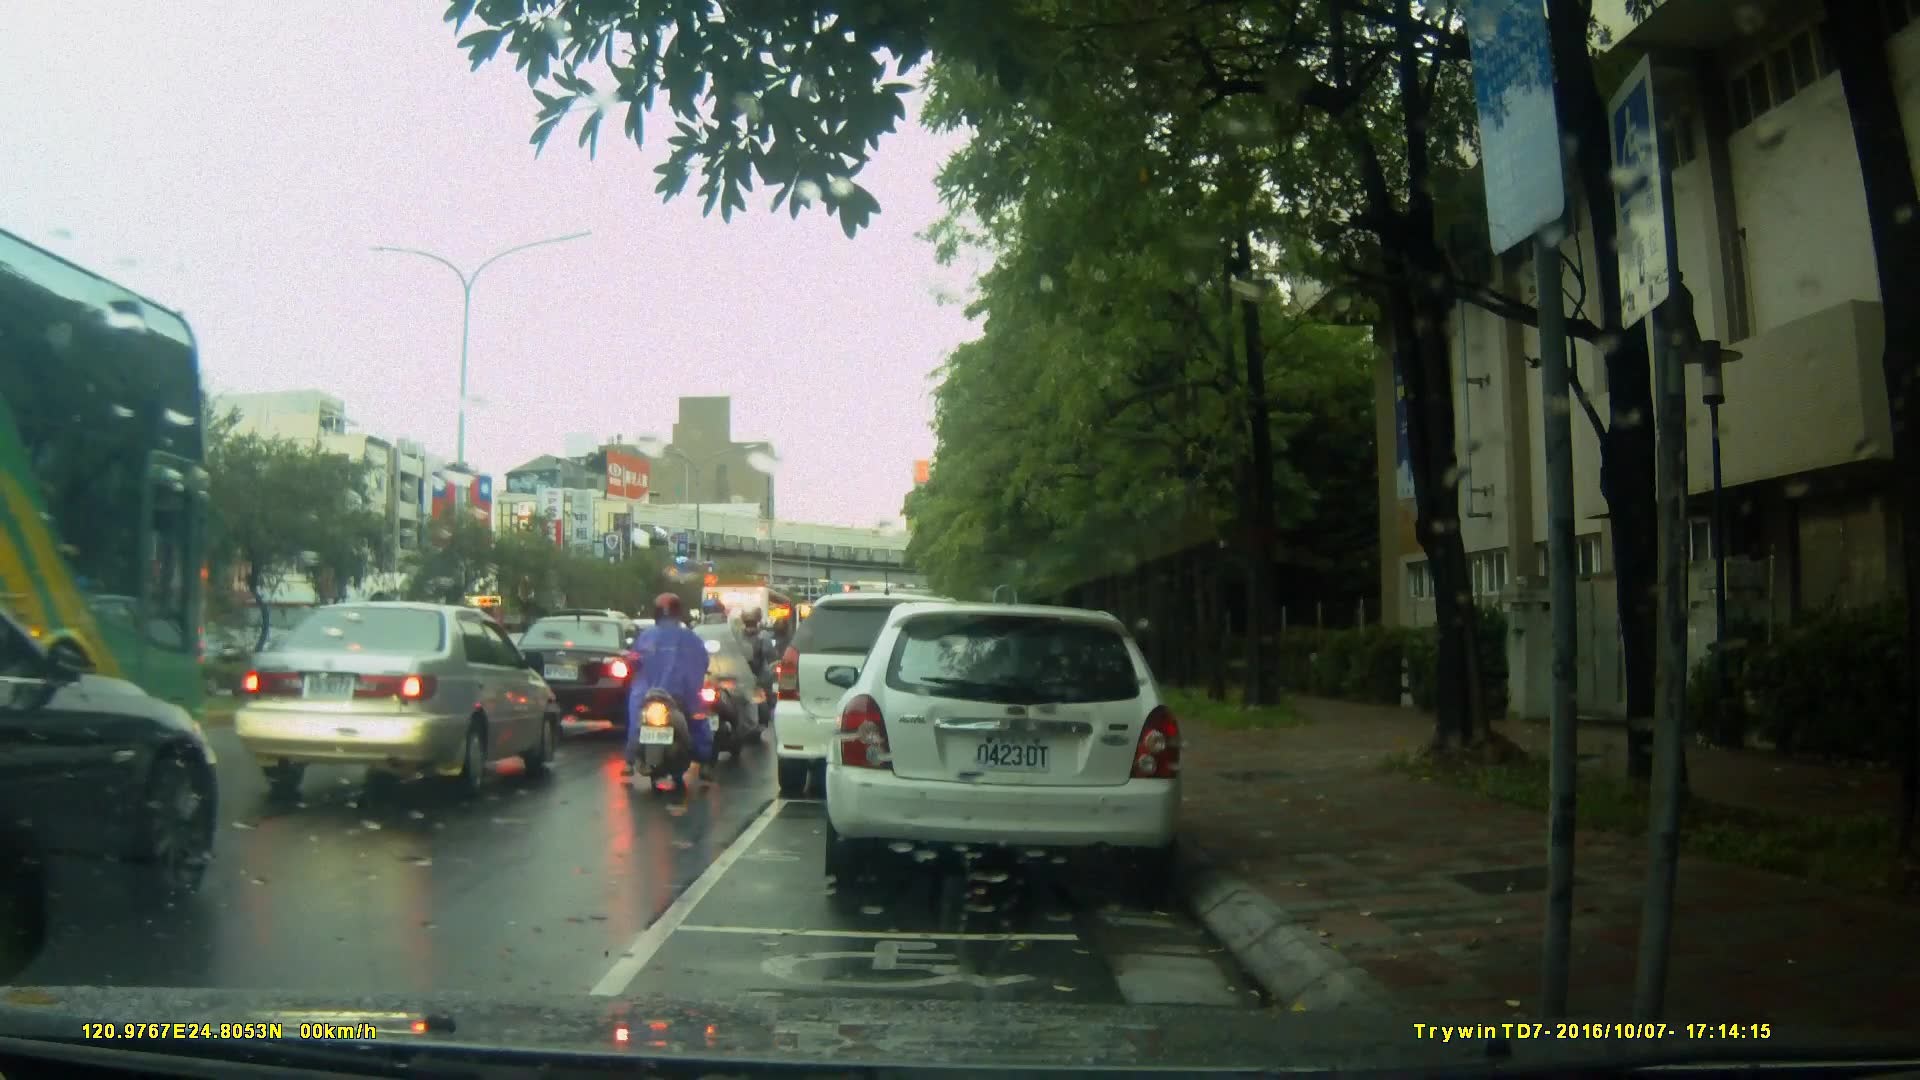rider: (614, 590, 721, 794), (694, 592, 766, 760)
vehicle: (1, 218, 235, 745), (831, 592, 1196, 897), (224, 599, 565, 803), (769, 592, 999, 799), (495, 612, 679, 738), (691, 581, 806, 706)
